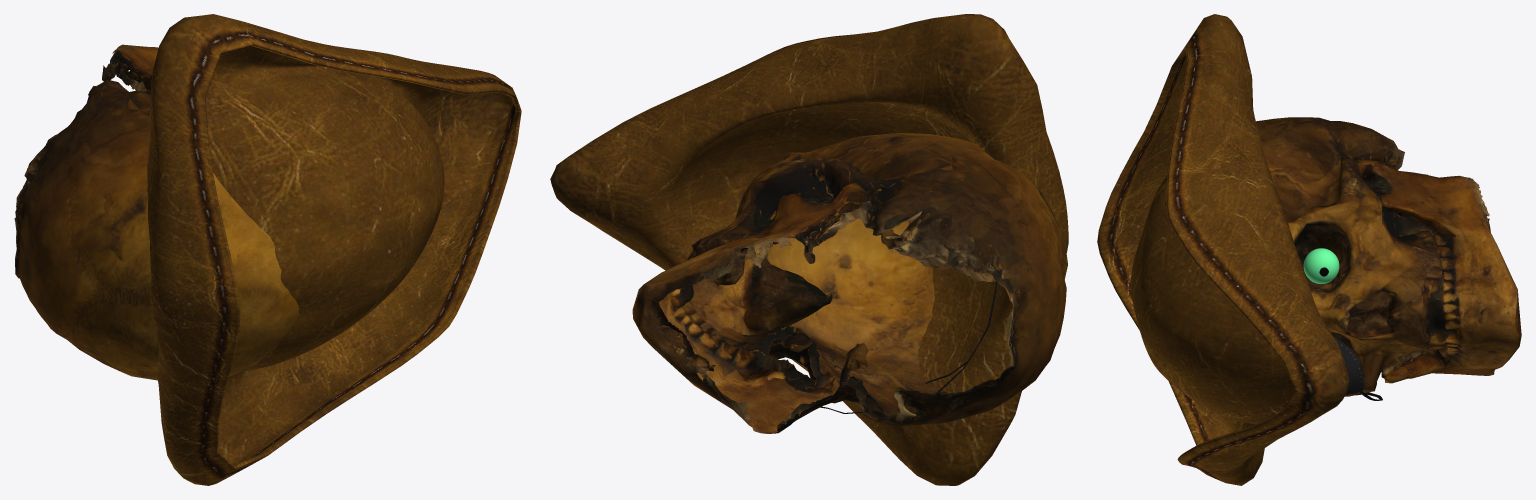
The model's file is RoyalBossSkull (merge).fbx.
The picture shows the model from 3 angles, left to right: view 1: azimuth 30°, elevation 25°; view 2: azimuth 150°, elevation 25°; view 3: azimuth 270°, elevation 25°; orthographic projection. The views are drawn at different scales.
Visible parts, largest first — view 1: PirateHat, Skull; view 2: Skull, PirateHat; view 3: PirateHat, Skull, Eyeball_Right, EyePatch.
Part boxes in pixels (<box>): PirateHat: <box>147,14,521,485</box>; Skull: <box>14,44,299,380</box>; Skull: <box>632,133,1067,433</box>; PirateHat: <box>550,14,1068,485</box>; PirateHat: <box>1097,14,1349,485</box>; Skull: <box>1141,117,1521,396</box>; Eyeball_Right: <box>1303,248,1339,283</box>; EyePatch: <box>1333,335,1382,400</box>.
Bounding box in the file's own units: 0.6321 × 0.5816 × 0.495.
4 materials, 4 textured.
